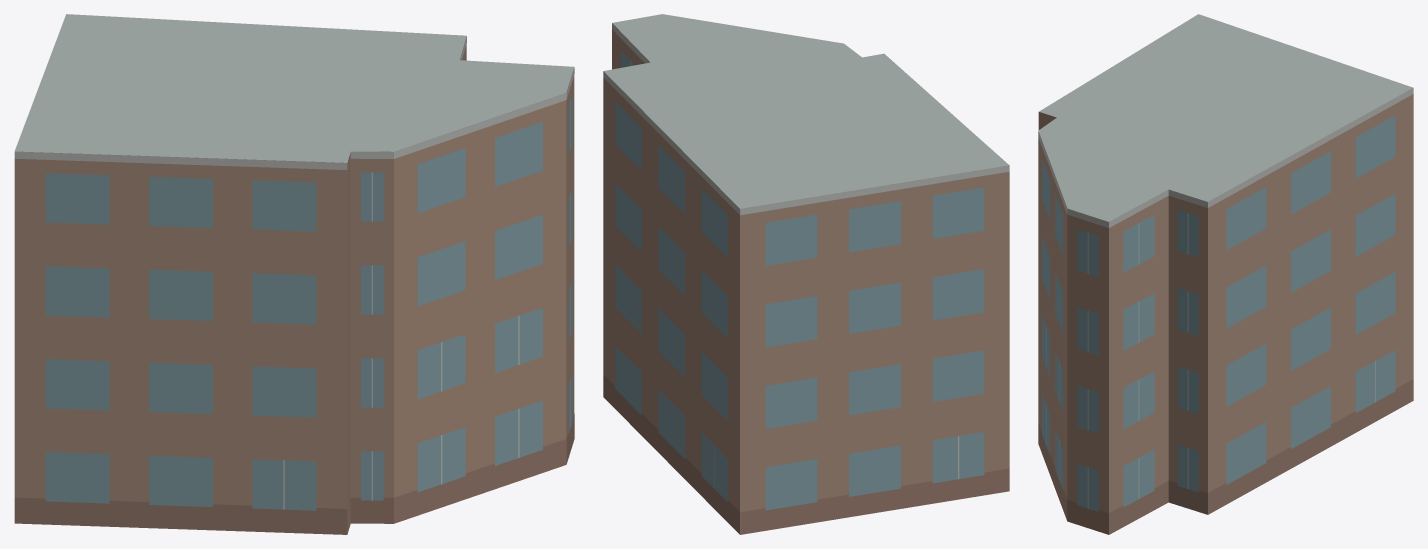
The model's file is survey-upis-32605868.glb.
The picture shows the model from 3 angles, left to right: view 1: azimuth 30°, elevation 25°; view 2: azimuth 150°, elevation 25°; view 3: azimuth 270°, elevation 25°; orthographic projection. The views are drawn at different scales.
Visible parts, largest first — view 1: survey-upis-32605868.tmp; view 2: survey-upis-32605868.tmp; view 3: survey-upis-32605868.tmp.
Part boxes in pixels (left/top/right/bottom): survey-upis-32605868.tmp: left=14, top=14, right=574, bottom=534; survey-upis-32605868.tmp: left=603, top=14, right=1009, bottom=534; survey-upis-32605868.tmp: left=1038, top=14, right=1413, bottom=534.
Bounding box in the file's own units: 17.83 × 12.5 × 13.6.
